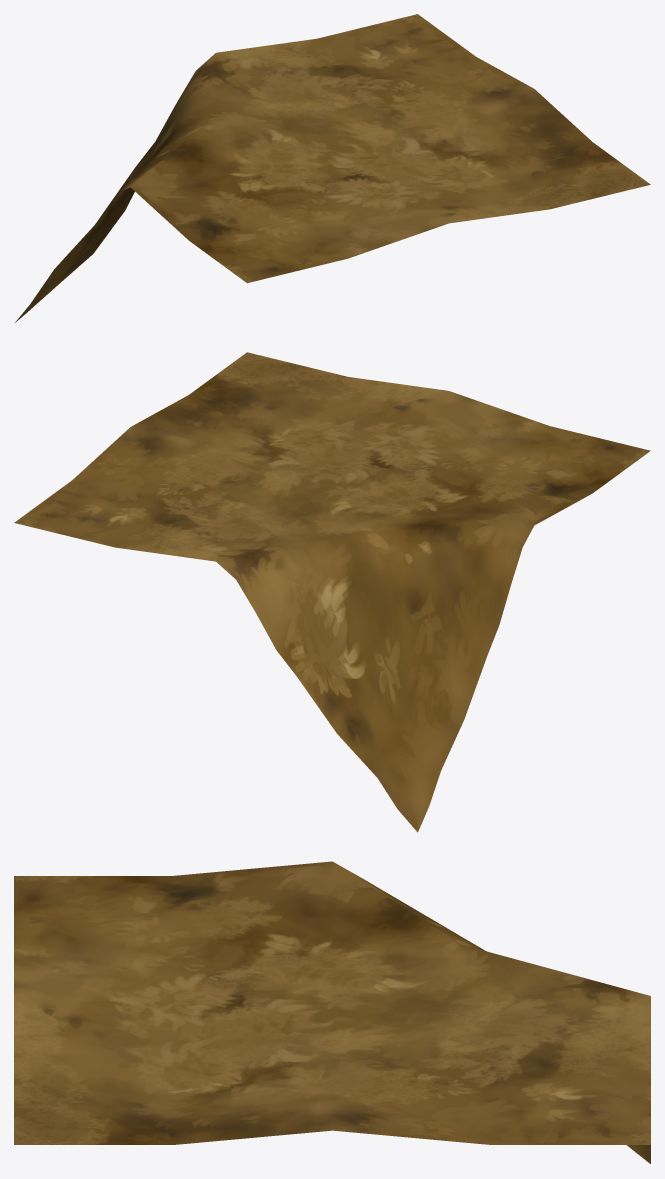
The model's file is Levelled_Slope_Incline_006.fbx.
3 views of the same model, one above another, from view 1: azimuth 30°, elevation 25°; view 2: azimuth 150°, elevation 25°; view 3: azimuth 270°, elevation 25° (orthographic). The views are drawn at different scales.
Visible parts, largest first — view 1: Levelled_Slope_incline_006; view 2: Levelled_Slope_incline_006; view 3: Levelled_Slope_incline_006.
Boxes of the visible parts, left/top/right/bottom form: Levelled_Slope_incline_006: left=15, top=14, right=650, bottom=322; Levelled_Slope_incline_006: left=14, top=352, right=650, bottom=832; Levelled_Slope_incline_006: left=14, top=861, right=650, bottom=1163.
Size of the model in its own units: 10 by 5.25 by 10.
Materials: 1 (1 with a texture image).
